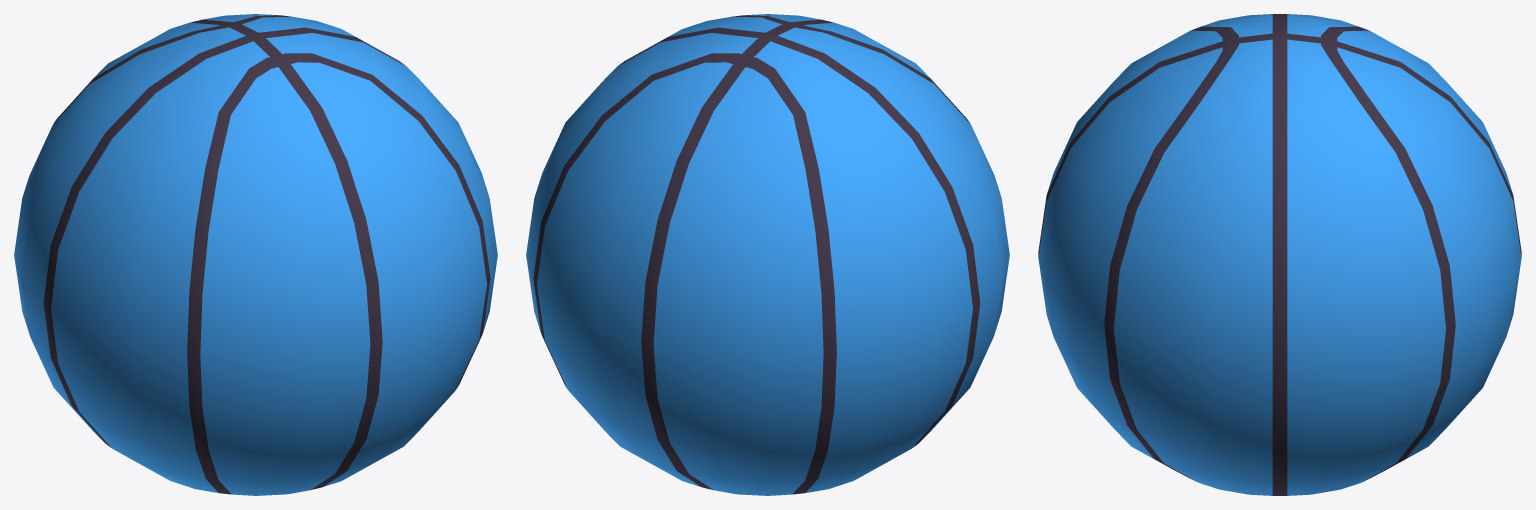
Rendered from Basketball_Blue.fbx.
The picture shows the model from 3 angles, left to right: view 1: azimuth 30°, elevation 25°; view 2: azimuth 150°, elevation 25°; view 3: azimuth 270°, elevation 25°; orthographic projection.
Parts seen in each view (by area): view 1: Basketball_Blue; view 2: Basketball_Blue; view 3: Basketball_Blue.
Boxes of the visible parts, <box> form: Basketball_Blue: <box>14,14,497,495</box>; Basketball_Blue: <box>526,14,1009,495</box>; Basketball_Blue: <box>1038,14,1521,495</box>.
Size of the model in its own units: 95.63 by 95.47 by 95.72.
